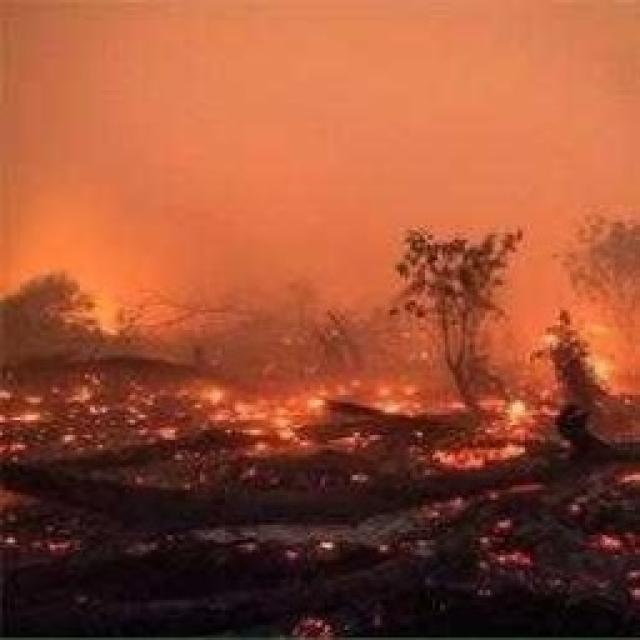Fire: (0, 325, 640, 632), (145, 346, 580, 460)
Smoke: (9, 4, 633, 253)
